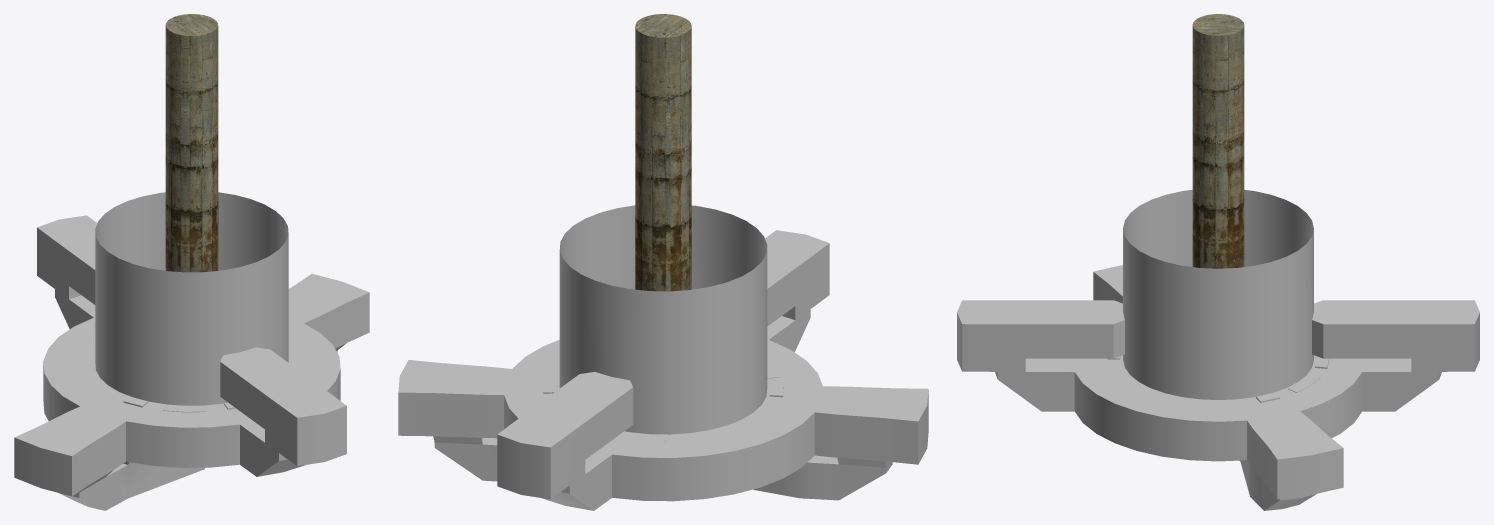
The model's file is SM_LevelTest03_Block00.fbx.
3 views of the same model, side by side, from view 1: azimuth 30°, elevation 25°; view 2: azimuth 150°, elevation 25°; view 3: azimuth 270°, elevation 25° (orthographic). The views are drawn at different scales.
Visible parts, largest first — view 1: SM_LevelTest03_Block00; view 2: SM_LevelTest03_Block00; view 3: SM_LevelTest03_Block00.
Part boxes in pixels (<box>): SM_LevelTest03_Block00: <box>14,14,369,510</box>; SM_LevelTest03_Block00: <box>398,14,928,510</box>; SM_LevelTest03_Block00: <box>957,14,1479,510</box>.
Bounding box in the file's own units: 6487 × 6345 × 7184.
